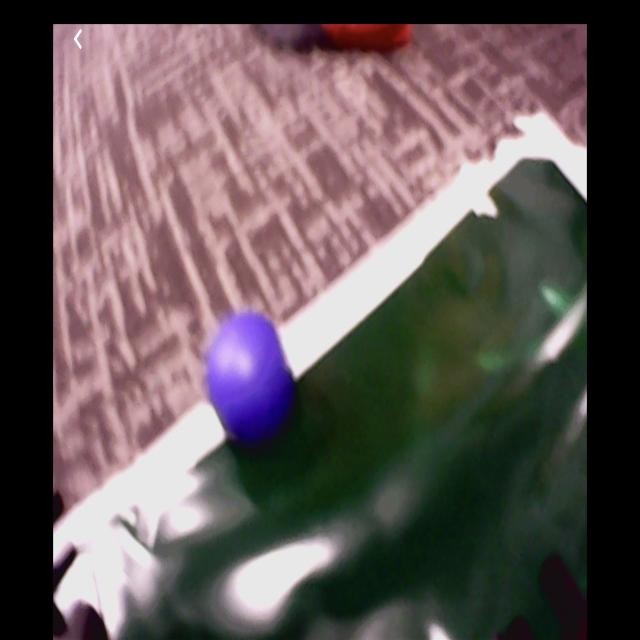ball: (208, 310, 286, 430)
